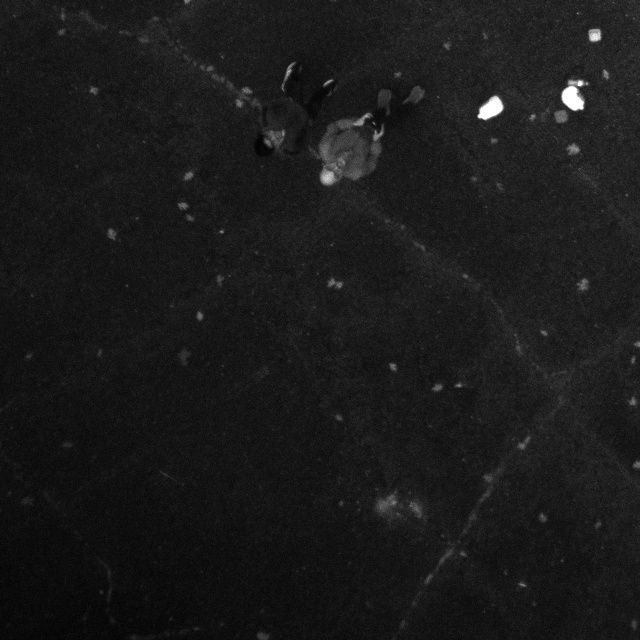bottle: (565, 77, 590, 89)
can: (473, 95, 508, 122), (560, 85, 588, 113)
container: (552, 108, 571, 126)
